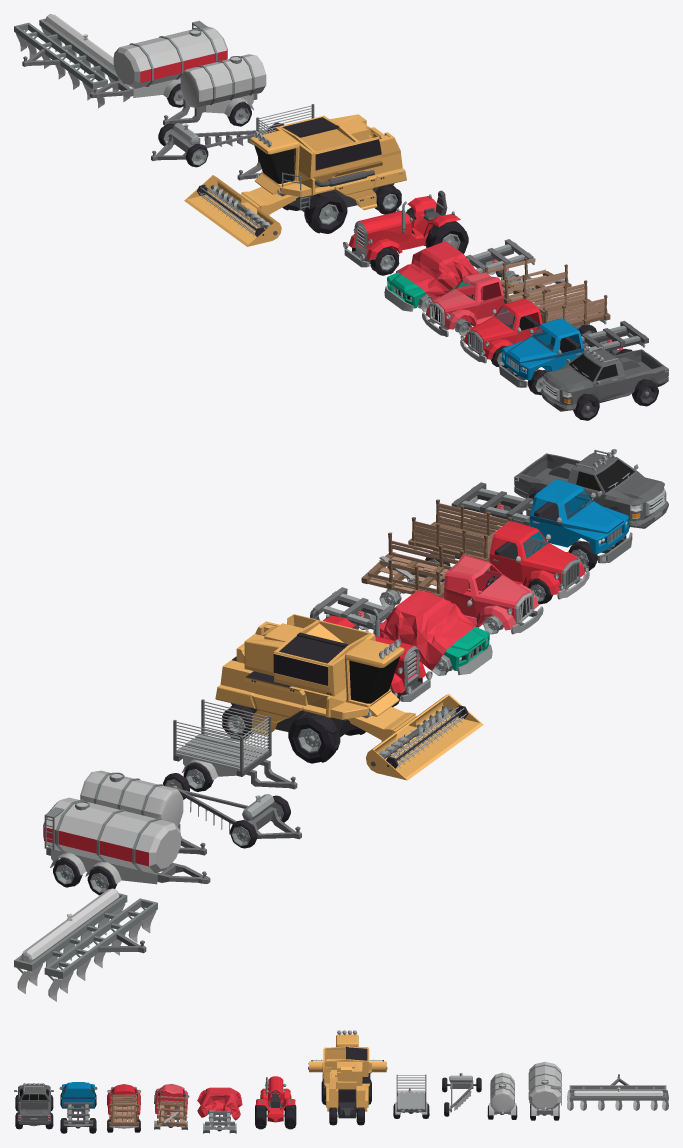
The model's file is Vehicals_All.fbx.
3 views of the same model, one above another, from view 1: azimuth 30°, elevation 25°; view 2: azimuth 150°, elevation 25°; view 3: azimuth 270°, elevation 25° (orthographic). The views are drawn at different scales.
Parts seen in each view (by area): view 1: Harvester, WaterTanker, Truck_truckBody, WreckedTruck2, WreckedTruck, PickUpTruck, Truck1_Truck_truckBody, Plough, Tanker, tractor, Seeder, wheel5 (+4 smaller); view 2: Harvester, WaterTanker, WreckedTruck, Truck_truckBody, WreckedTruck2, Plough, Truck1_Truck_truckBody, PickUpTruck, Trailler, Tanker, tractor, Seeder (+1 smaller); view 3: Harvester, Plough, WreckedTruck2, WaterTanker, PickUpTruck, WreckedTruck, Truck_truckBody, Truck1_Truck_truckBody, Trailler, tractor, Tanker, Seeder (+2 smaller).
Part boxes in pixels (bbox=[...]): Harvester: bbox=[184, 114, 406, 246]; WaterTanker: bbox=[90, 26, 227, 98]; Truck_truckBody: bbox=[460, 280, 610, 363]; WreckedTruck2: bbox=[384, 239, 534, 312]; WreckedTruck: bbox=[422, 257, 571, 336]; PickUpTruck: bbox=[540, 346, 668, 411]; Truck1_Truck_truckBody: bbox=[499, 318, 648, 387]; Plough: bbox=[14, 14, 129, 108]; Tanker: bbox=[163, 54, 266, 125]; tractor: bbox=[343, 190, 460, 267]; Seeder: bbox=[151, 123, 266, 161]; wheel5: bbox=[304, 191, 347, 233]; Harvester: bbox=[215, 614, 483, 780]; WaterTanker: bbox=[43, 797, 210, 884]; WreckedTruck: bbox=[361, 532, 543, 634]; Truck_truckBody: bbox=[408, 499, 589, 599]; WreckedTruck2: bbox=[312, 587, 492, 675]; Plough: bbox=[14, 888, 157, 1001]; Truck1_Truck_truckBody: bbox=[451, 479, 632, 563]; PickUpTruck: bbox=[514, 449, 668, 528]; Trailler: bbox=[173, 699, 297, 789]; Tanker: bbox=[80, 770, 206, 855]; tractor: bbox=[310, 608, 432, 701]; Seeder: bbox=[167, 782, 301, 839]; Harvester: bbox=[308, 1030, 387, 1118]; Plough: bbox=[567, 1074, 668, 1110]; WreckedTruck2: bbox=[197, 1087, 242, 1133]; WaterTanker: bbox=[528, 1062, 561, 1115]; PickUpTruck: bbox=[14, 1083, 53, 1126]; WreckedTruck: bbox=[154, 1084, 189, 1129]; Truck_truckBody: bbox=[107, 1084, 140, 1128]; Truck1_Truck_truckBody: bbox=[59, 1082, 97, 1128]; Trailler: bbox=[395, 1074, 427, 1114]; tractor: bbox=[256, 1076, 295, 1122]; Tanker: bbox=[489, 1072, 516, 1115]; Seeder: bbox=[447, 1073, 476, 1112].
Bounding box in the file's own units: 0.0824 × 0.0424 × 0.3712.
Materials: 2 (2 with a texture image).
